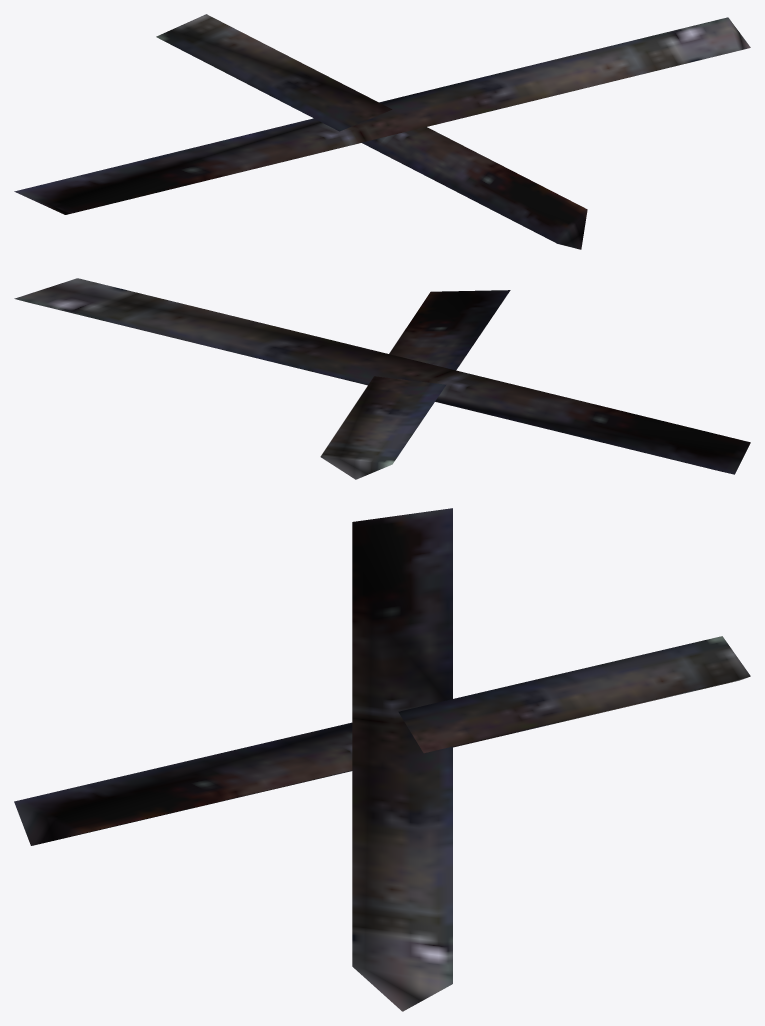
The model's file is Civilian - Civilian Building - Bridg D 09 - CBBridgD09.glb.
3 views of the same model, one above another, from view 1: azimuth 30°, elevation 25°; view 2: azimuth 150°, elevation 25°; view 3: azimuth 270°, elevation 25° (orthographic). The views are drawn at different scales.
Parts seen in each view (by area): view 1: CBBRIDGD09; view 2: CBBRIDGD09; view 3: CBBRIDGD09.
Part boxes in pixels (box(x1,y1,x2,y2)): CBBRIDGD09: box(14, 14, 750, 249); CBBRIDGD09: box(14, 278, 750, 479); CBBRIDGD09: box(14, 508, 750, 1011).
Bounding box in the file's own units: 27.92 × 2.6 × 18.16.
1 material, 1 textured.
